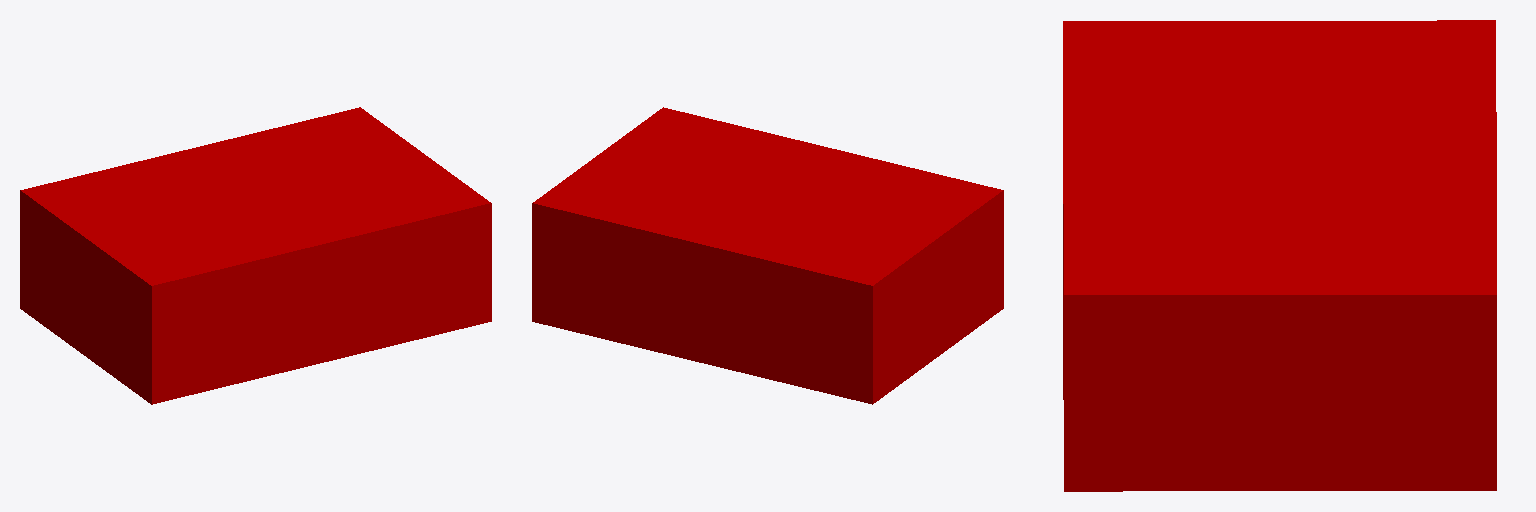
URDF robot description (car_robot_estimate):
<?xml version="1.0"?>
<robot name="car_robot_estimate">
	<material name="red">
		<color rgba="0.8 0 0 1"/>
	</material>
	<link name="base_link_estimate">
		<visual>
			<geometry>
				<box size="0.2 0.3 0.1"/>
			</geometry>
			<origin rpy="0 0 -1.57" xyz="0 0 0"/>
			<material name="red"/>
		</visual>
	</link>
</robot>

--- What the picture shows (computed from the rendered views, not written in the file) ---
3 views of the same robot in one strip: view 1: azimuth 30°, elevation 25°; view 2: azimuth 150°, elevation 25°; view 3: azimuth 270°, elevation 25° (orthographic).
Model car_robot_estimate with 1 links and 0 joints (none), rooted at base_link_estimate, posed every joint at zero.
Links seen in each view (by area): view 1: base_link_estimate; view 2: base_link_estimate; view 3: base_link_estimate.
Link boxes in pixels (bbox=[...]): base_link_estimate: bbox=[20, 107, 491, 404]; base_link_estimate: bbox=[532, 107, 1003, 404]; base_link_estimate: bbox=[1063, 20, 1496, 491].
Bounding box of the posed robot: 0.3002 × 0.2002 × 0.1 m (x, y, z).
Geometry: primitives only (box / cylinder / sphere), no mesh files.